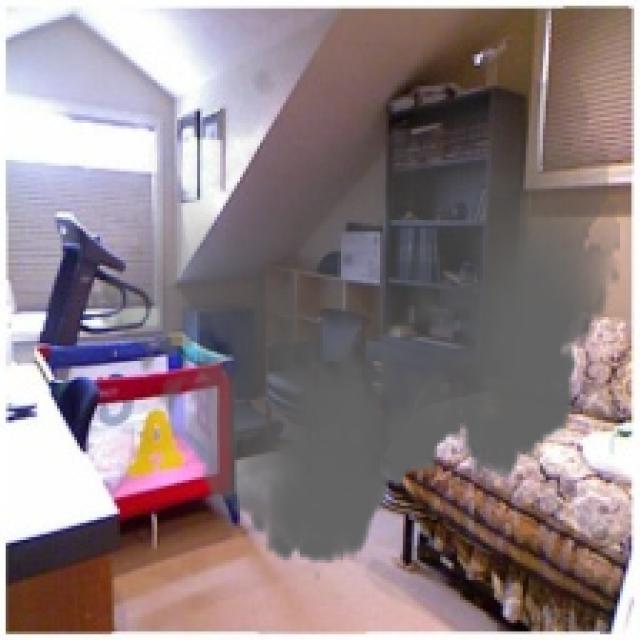smoke: (86, 43, 620, 583)
